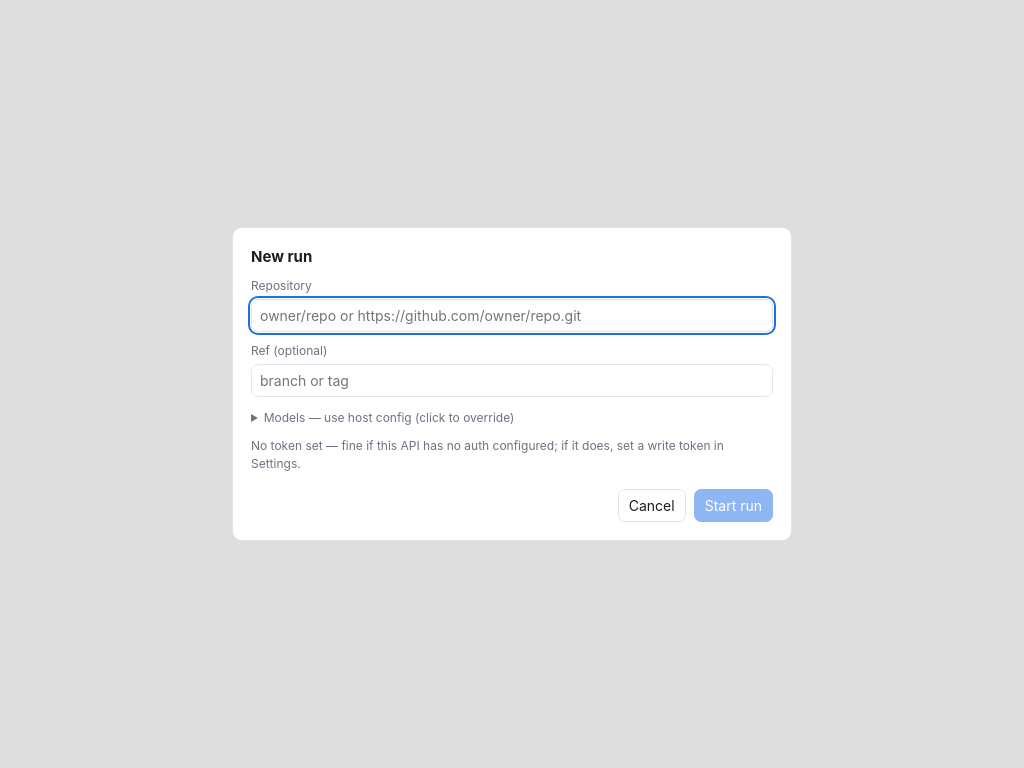
Test: NewRunModal › models section (issue #77, catalog dropdown issue #80) › prefills from GET /config/models once expanded, with no provider field anywhere
The width and height of the screenshot is (1024, 768).
Click the heading "Models — use host config (click to override)" at (389, 417), box [264, 410, 514, 425]
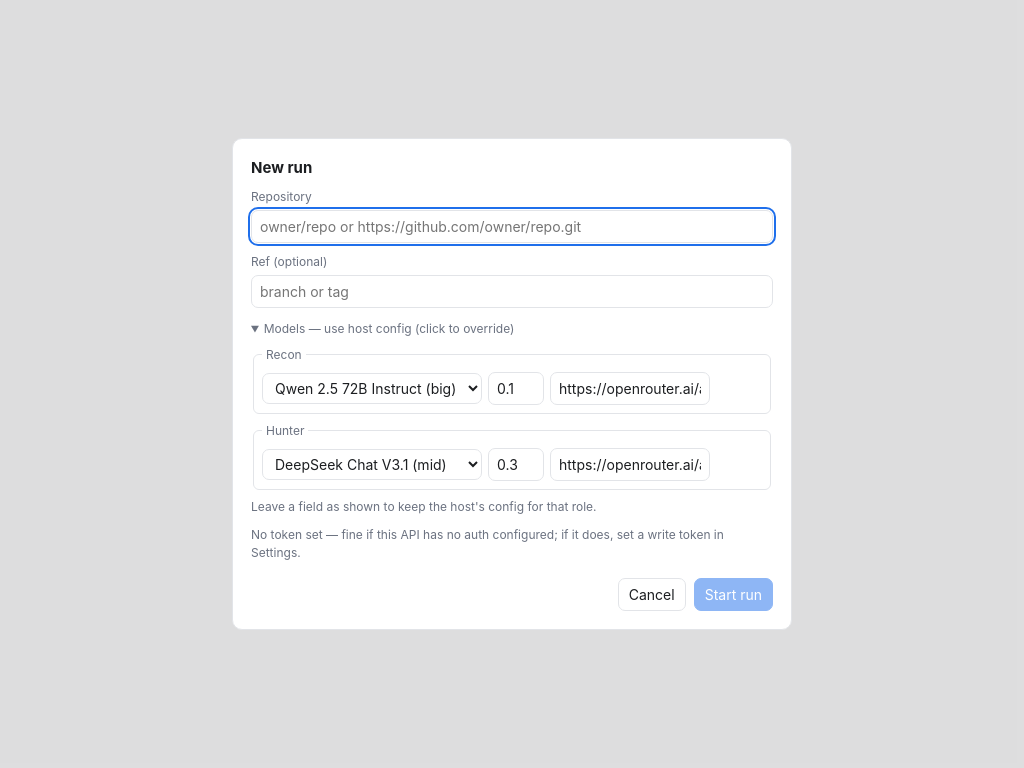
Now the dropdown named "hunter model" shows "DeepSeek Chat V3.1 (mid)", box [262, 449, 482, 480]
